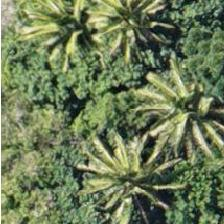Kelapa_Sawit: (95, 125, 185, 215), (136, 59, 224, 149), (52, 139, 142, 224), (91, 0, 181, 74), (1, 0, 91, 61)
